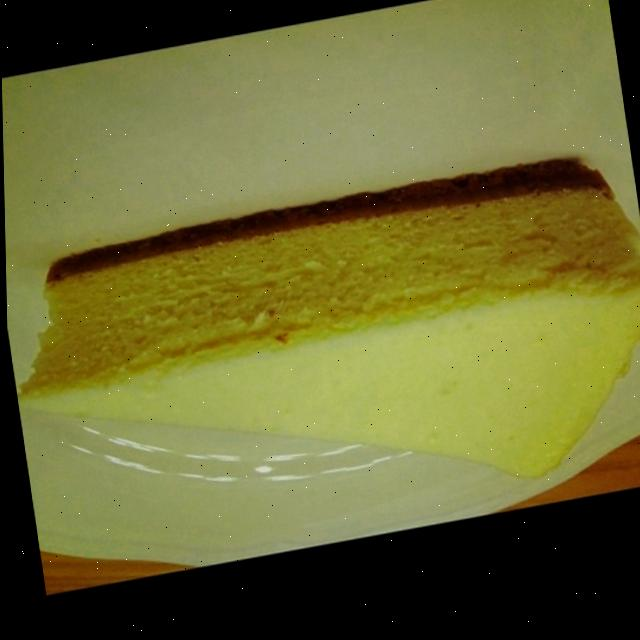蛋糕甜品: (0, 0, 640, 609)
